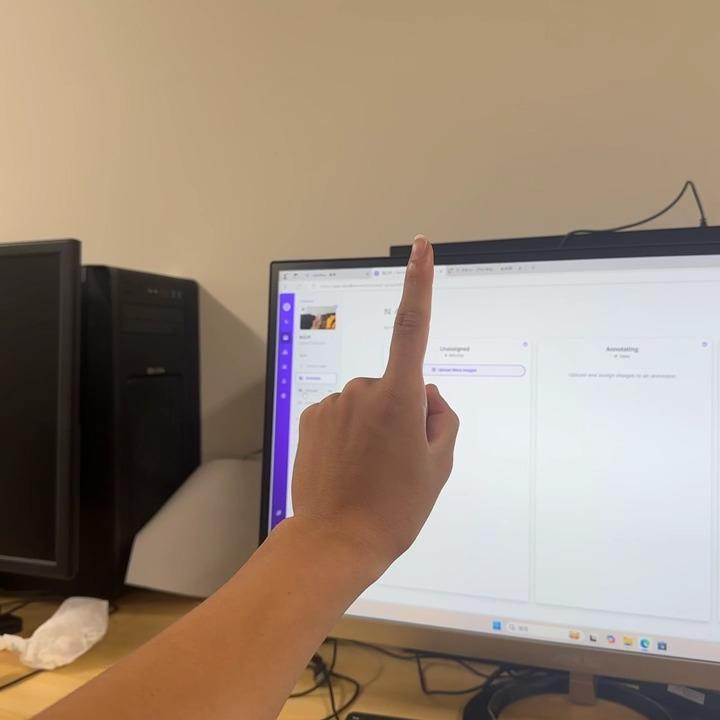without_gloves: (222, 169, 542, 574)
